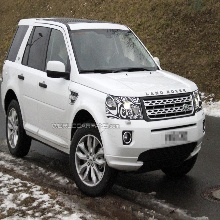no damage: (1, 16, 206, 198)
